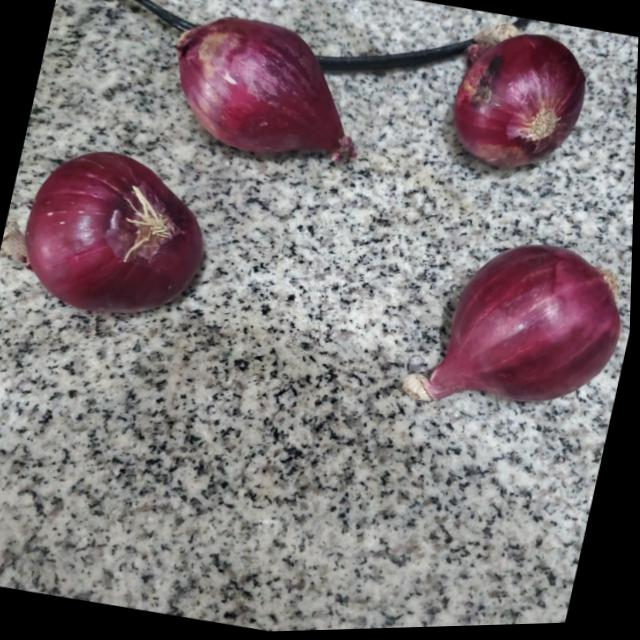onion: (416, 228, 634, 433), (1, 136, 219, 325), (158, 3, 376, 178), (443, 25, 597, 180)
